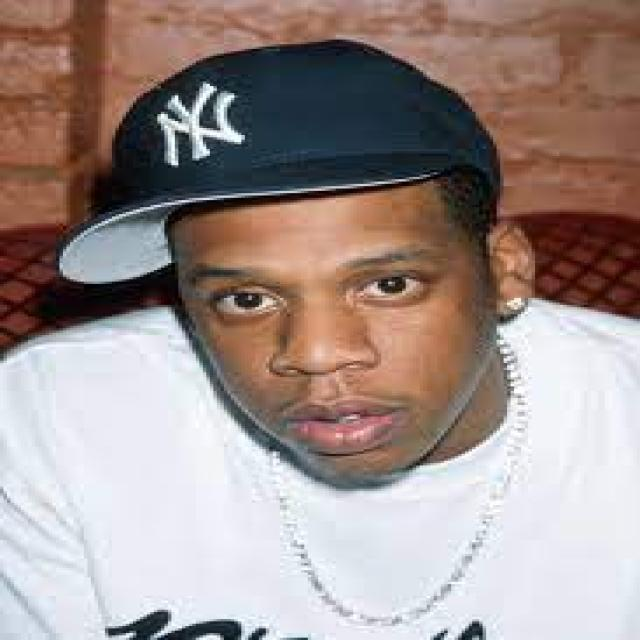cap: (32, 37, 535, 384)
